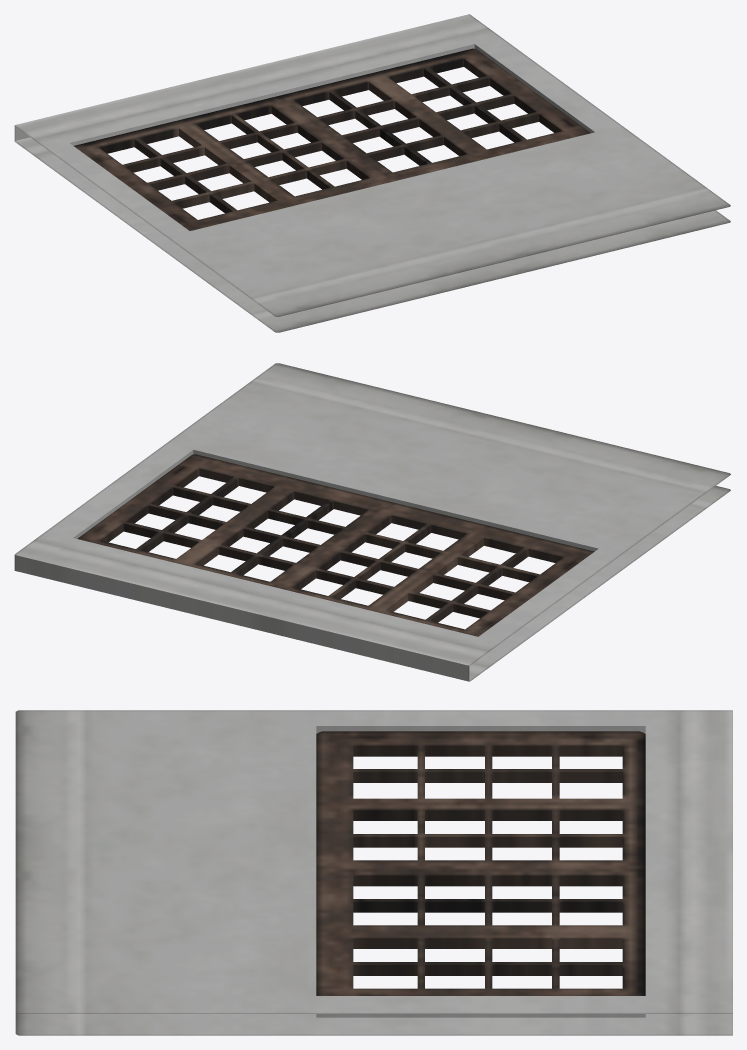
Rendered from SM_EC_House_Wall_Window_0_3x3_2.fbx.
3 views of the same model, one above another, from view 1: azimuth 30°, elevation 25°; view 2: azimuth 150°, elevation 25°; view 3: azimuth 270°, elevation 25° (orthographic). The views are drawn at different scales.
Visible parts, largest first — view 1: SM_EC_House_Wall_Window_0_3x3_2; view 2: SM_EC_House_Wall_Window_0_3x3_2; view 3: SM_EC_House_Wall_Window_0_3x3_2.
Part boxes in pixels (x1,y1,x2,y2): SM_EC_House_Wall_Window_0_3x3_2: (14,14,730,332); SM_EC_House_Wall_Window_0_3x3_2: (14,363,730,681); SM_EC_House_Wall_Window_0_3x3_2: (15,710,732,1035).
Bounding box in the file's own units: 3 × 3 × 0.1.
